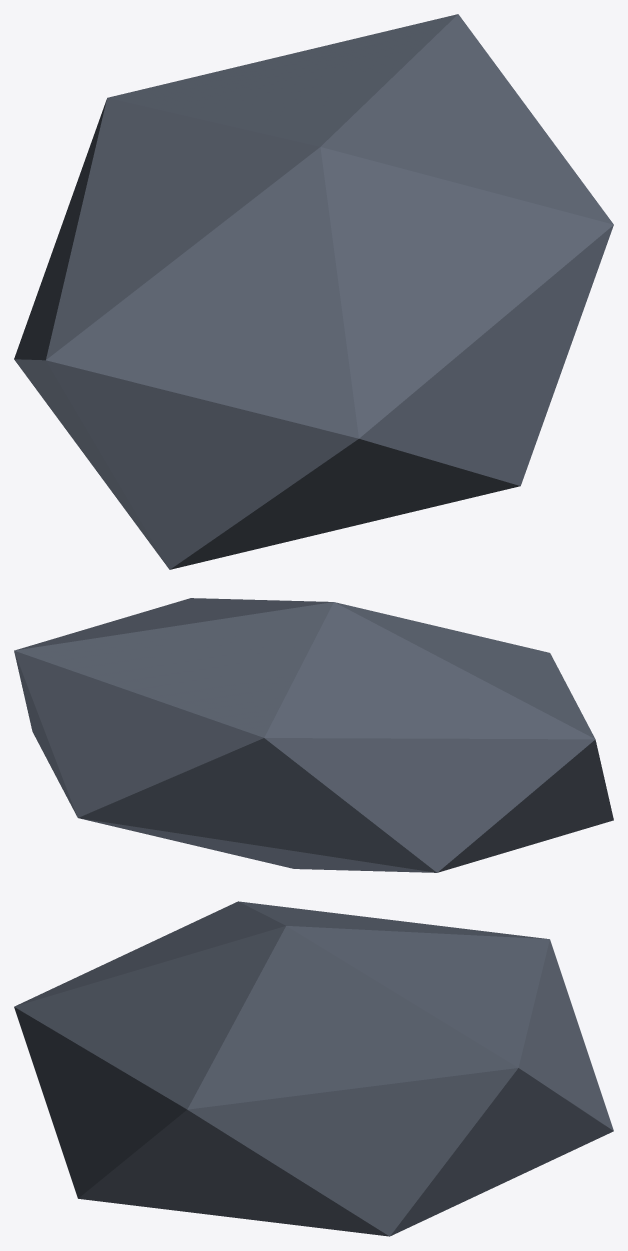
The model's file is EXTG_MainWestStone_02.glb.
3 renders of one model, top to bottom at view 1: azimuth 30°, elevation 25°; view 2: azimuth 150°, elevation 25°; view 3: azimuth 270°, elevation 25°, orthographic. The views are drawn at different scales.
Visible parts, largest first — view 1: EXTG_MainWestStone_02; view 2: EXTG_MainWestStone_02; view 3: EXTG_MainWestStone_02.
Boxes of the visible parts, <box> form: EXTG_MainWestStone_02: <box>14,14,613,569</box>; EXTG_MainWestStone_02: <box>14,598,613,872</box>; EXTG_MainWestStone_02: <box>14,901,613,1236</box>.
Bounding box in the file's own units: 1.13 × 0.5501 × 1.07.
